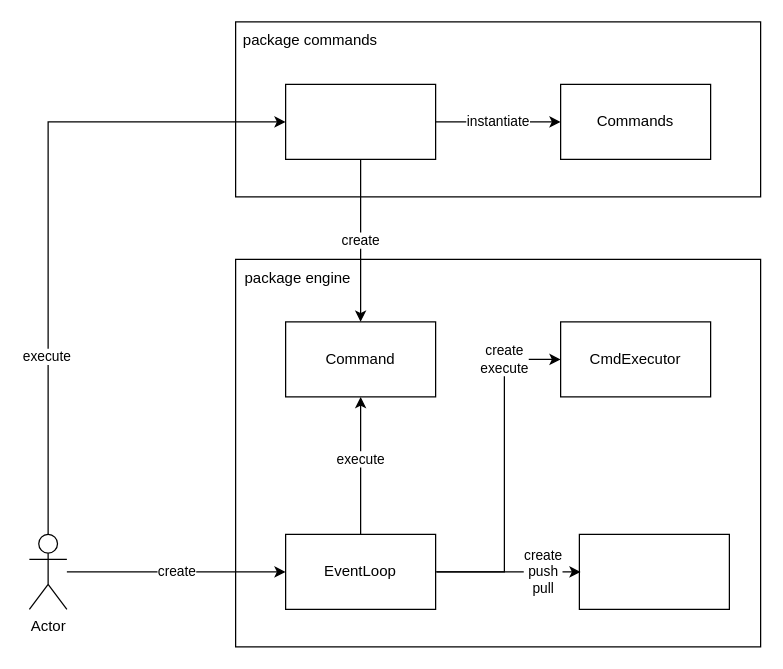
The diagram is 783 pixels wide and 669 high, and some of its shapes have lost their labels. The box of each missing label's shape, as (x1, y1, x2, y2) in pixels:
commandQueue: (578, 533, 729, 609)
Parser: (284, 83, 436, 159)
